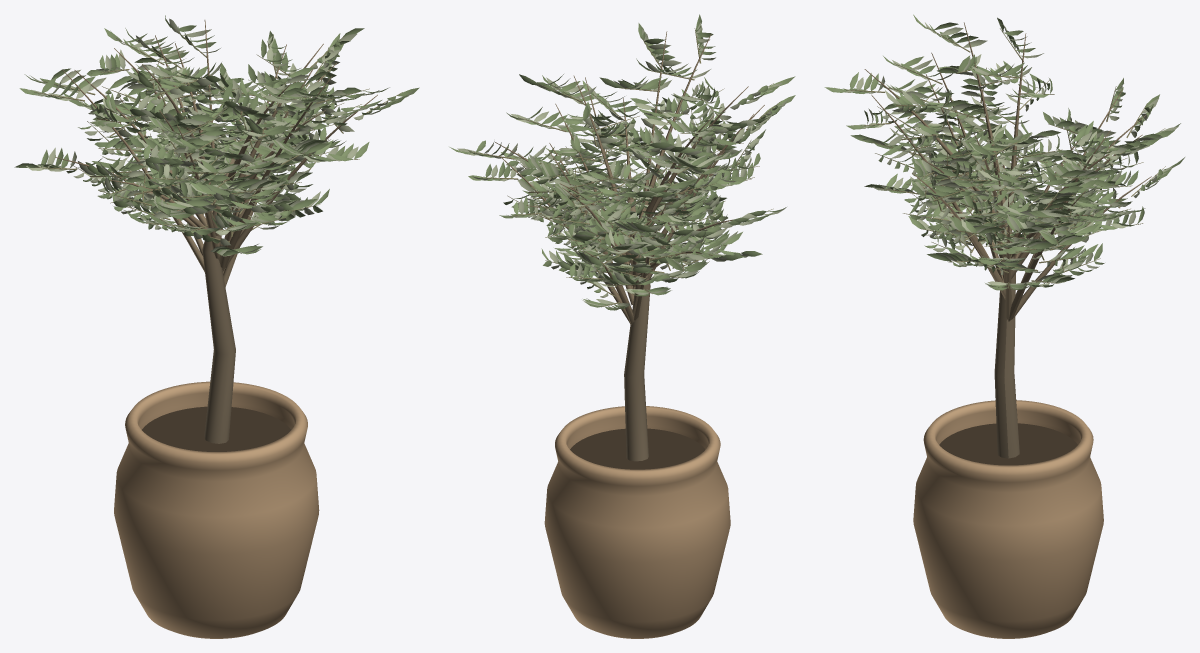
File: olive-pot.glb
3 renders of one model, left to right at view 1: azimuth 30°, elevation 25°; view 2: azimuth 150°, elevation 25°; view 3: azimuth 270°, elevation 25°, orthographic. The views are drawn at different scales.
Parts seen in each view (by area): view 1: Potted olive silver leaves, Rounded clay pot with hollow rolled lip, Potted olive branching trunk, Soil inside olive pot; view 2: Potted olive silver leaves, Rounded clay pot with hollow rolled lip, Potted olive branching trunk, Soil inside olive pot; view 3: Potted olive silver leaves, Rounded clay pot with hollow rolled lip, Potted olive branching trunk, Soil inside olive pot.
Part boxes in pixels (left/top/right/bottom): Potted olive silver leaves: left=14, top=15, right=419, bottom=256; Rounded clay pot with hollow rolled lip: left=114, top=381, right=319, bottom=638; Potted olive branching trunk: left=34, top=20, right=402, bottom=443; Soil inside olive pot: left=142, top=406, right=290, bottom=451; Potted olive silver leaves: left=449, top=14, right=795, bottom=310; Rounded clay pot with hollow rolled lip: left=544, top=406, right=730, bottom=638; Potted olive branching trunk: left=469, top=28, right=780, bottom=461; Soil inside olive pot: left=570, top=428, right=705, bottom=469; Potted olive silver leaves: left=824, top=14, right=1184, bottom=290; Rounded clay pot with hollow rolled lip: left=913, top=400, right=1103, bottom=638; Potted olive branching trunk: left=845, top=22, right=1165, bottom=458; Soil inside olive pot: left=939, top=423, right=1077, bottom=465.
Size of the model in its own units: 0.8709 by 1.46 by 0.8727.
